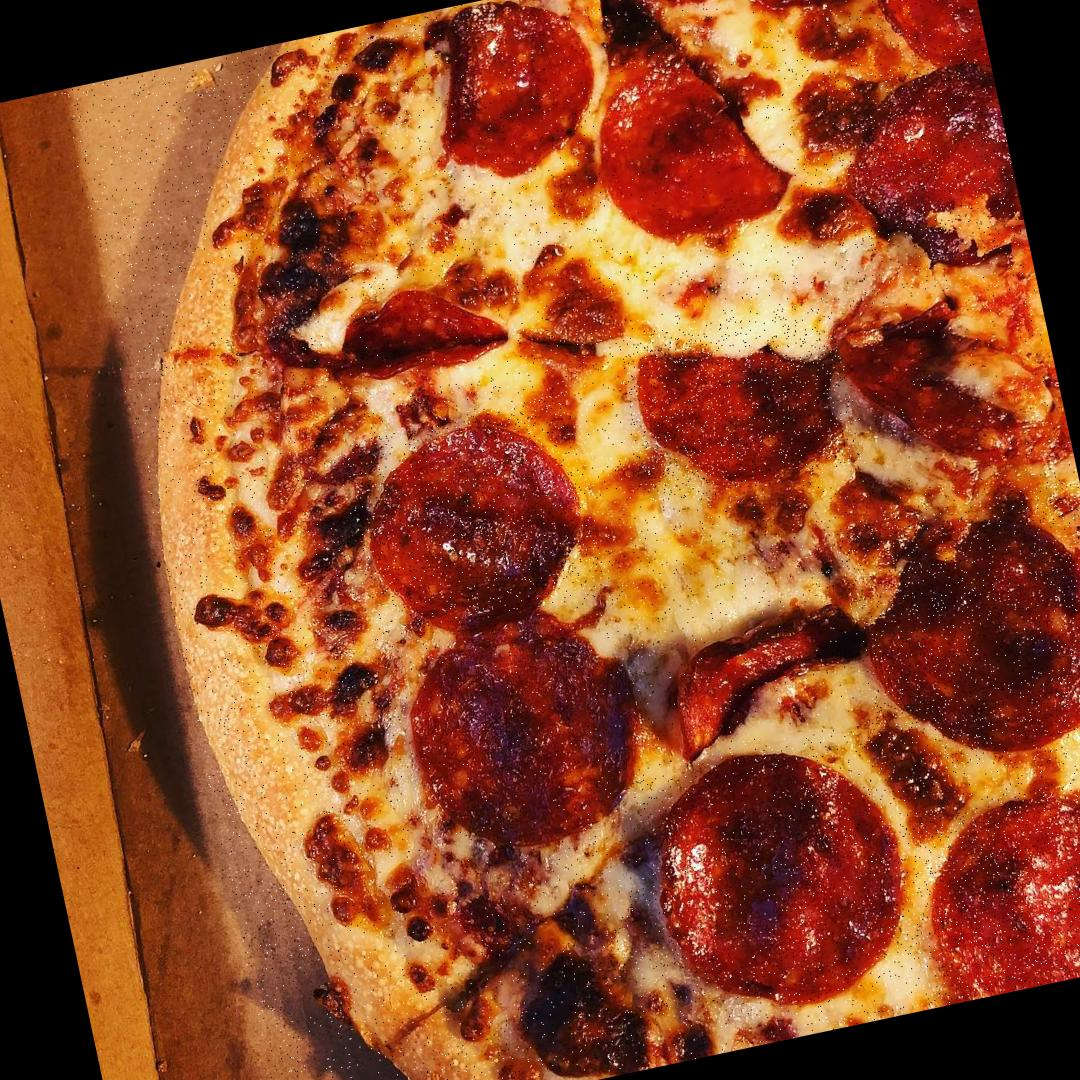Pepperoni: (631, 722, 931, 1028), (835, 479, 1080, 795), (389, 586, 659, 869), (338, 394, 613, 664), (581, 21, 806, 261), (614, 297, 864, 507), (833, 280, 1047, 502), (642, 590, 892, 768), (404, 0, 620, 198), (814, 48, 1023, 252), (901, 765, 1080, 1003), (315, 258, 524, 406), (849, 0, 994, 100), (707, 0, 916, 27)
Pizza: (61, 0, 1080, 1080)
